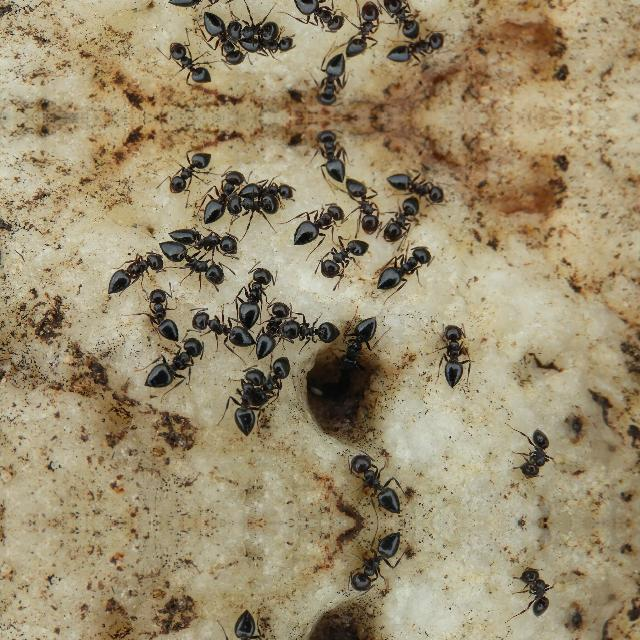Crematogaster: (142, 331, 208, 392), (197, 307, 260, 355), (288, 198, 344, 252), (144, 277, 188, 345), (317, 230, 373, 282), (156, 242, 222, 286), (235, 255, 272, 331), (198, 16, 248, 70), (335, 314, 381, 372), (198, 165, 248, 218), (165, 148, 219, 196), (374, 188, 422, 242), (165, 38, 219, 86), (337, 172, 377, 232), (337, 2, 377, 62), (173, 222, 240, 255), (374, 0, 422, 46), (310, 123, 348, 181), (310, 53, 348, 111), (382, 246, 432, 290), (230, 365, 258, 441), (277, 312, 337, 346), (252, 298, 294, 346), (288, 0, 343, 36), (108, 252, 162, 288), (254, 359, 294, 407), (227, 188, 285, 218), (227, 16, 285, 46), (249, 176, 299, 198), (249, 36, 299, 58), (229, 604, 258, 640), (173, 0, 240, 11)
